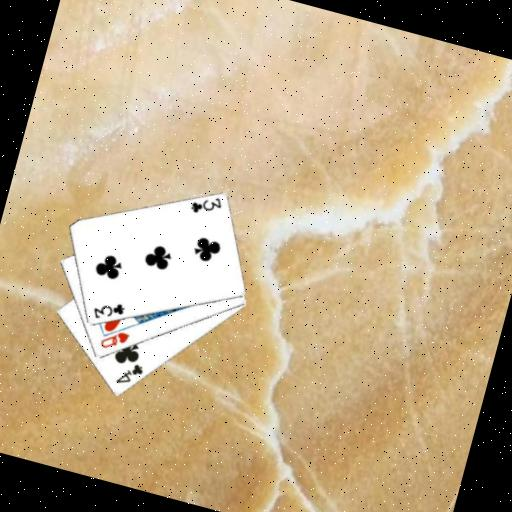3C: (87, 294, 127, 327), (186, 187, 225, 220)
4C: (112, 356, 147, 390)
QH: (95, 324, 131, 355)
